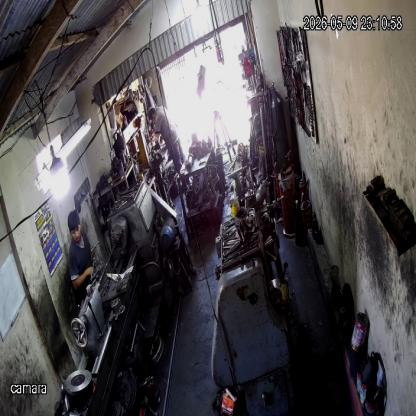sin_lentes: (69, 226, 82, 235)
